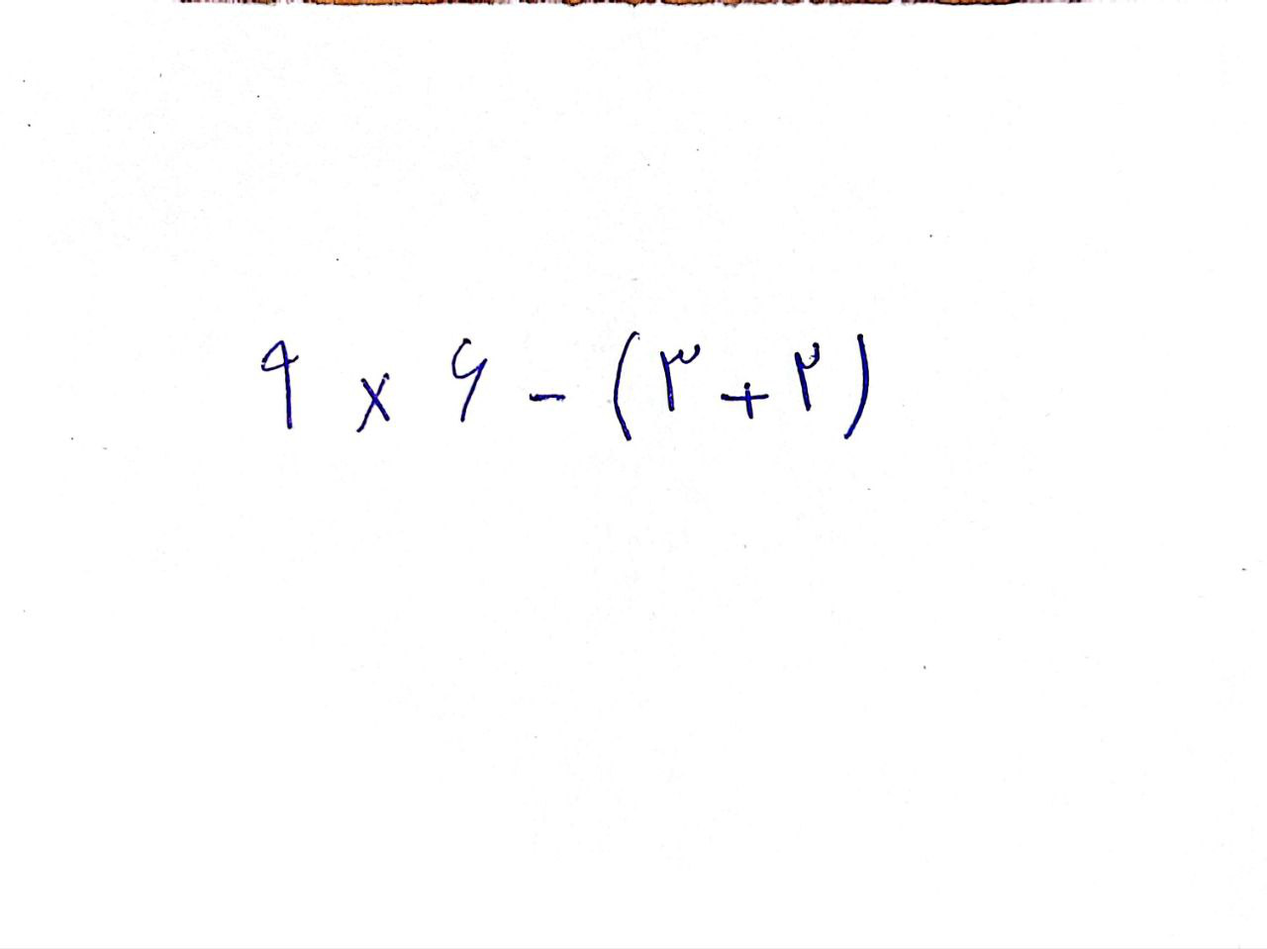character: (841, 332, 875, 442), (448, 335, 489, 423), (260, 340, 300, 430), (610, 329, 639, 445), (658, 342, 703, 415), (356, 369, 389, 435), (792, 342, 824, 410), (718, 383, 772, 423), (524, 389, 567, 403)
